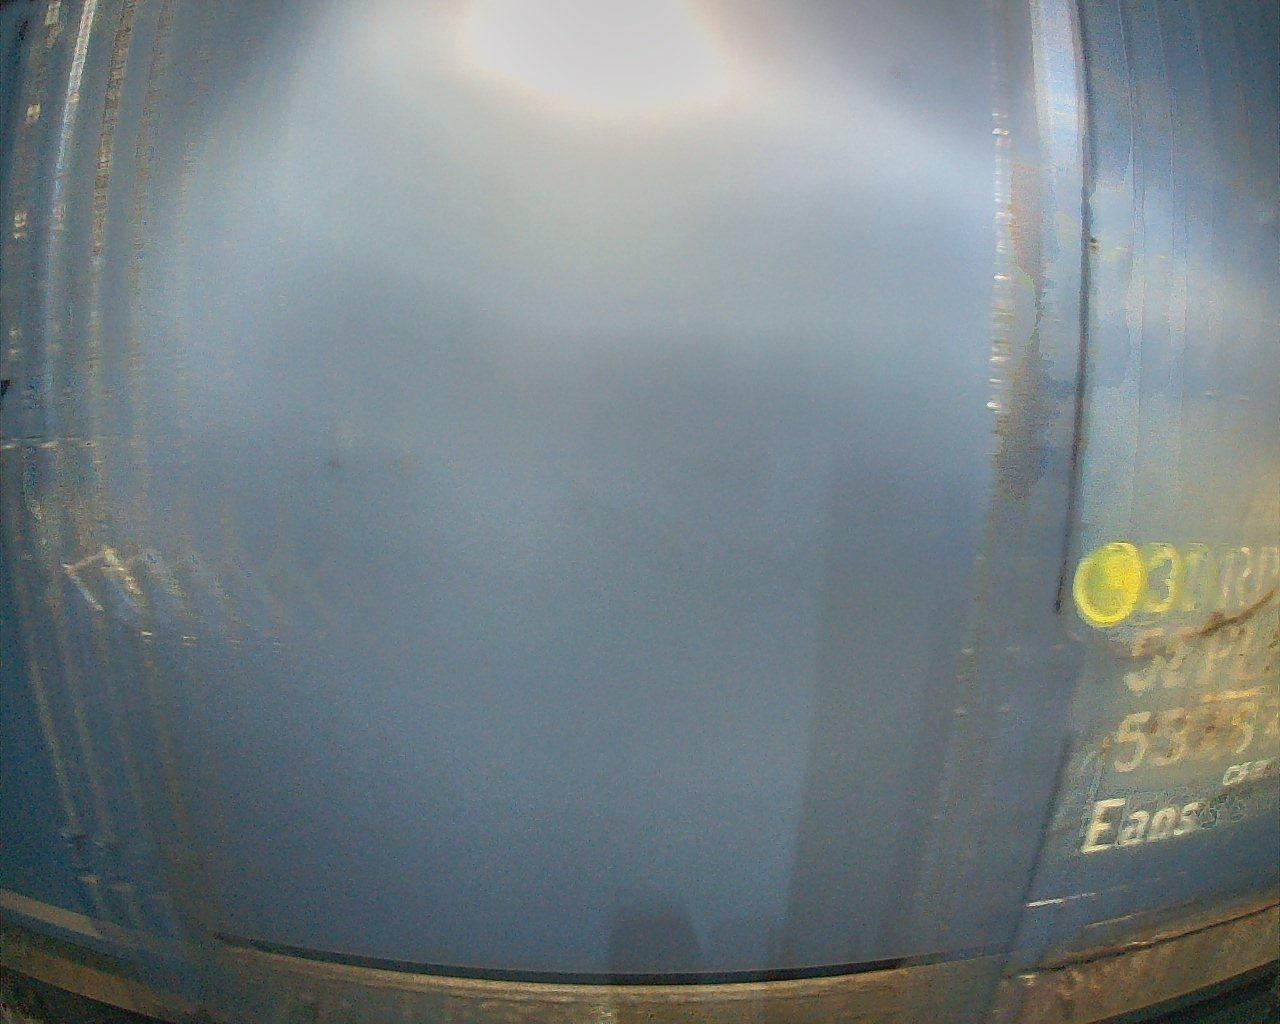UIC: (1076, 535, 1280, 861)
